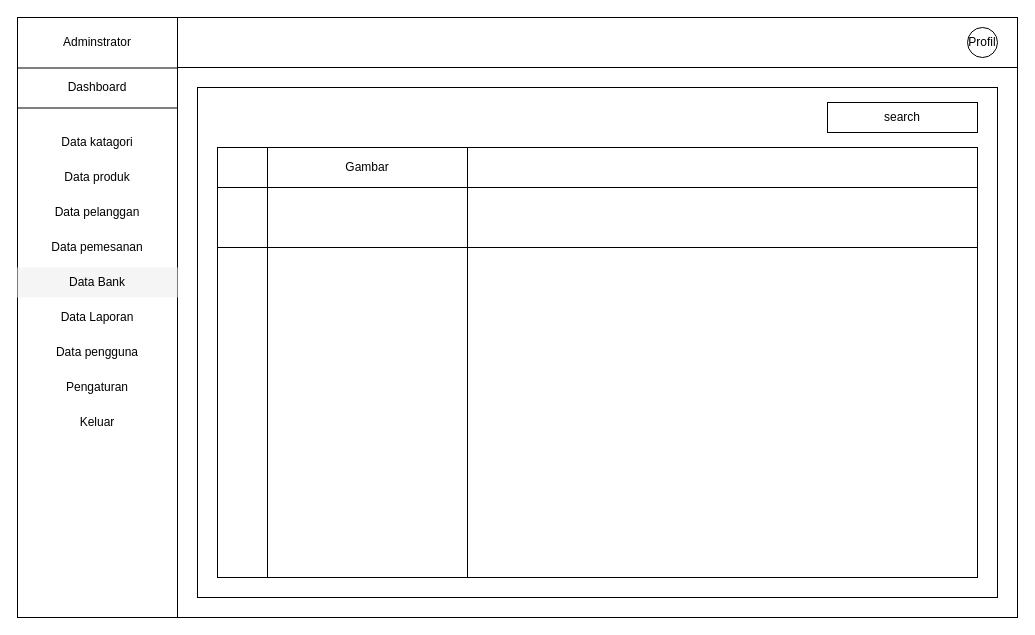
Image size: 1035x635. Some labels were removed from this diagram. Here are the shapes that lost their labels. From the top down, the centre of each, then its label:
the point at 242,167: NO
the point at 722,167: Judul
